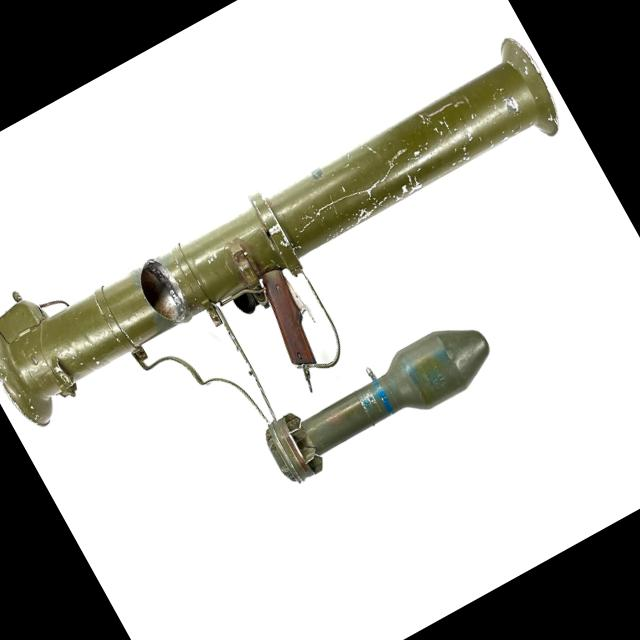Weapon: (0, 14, 621, 516)
